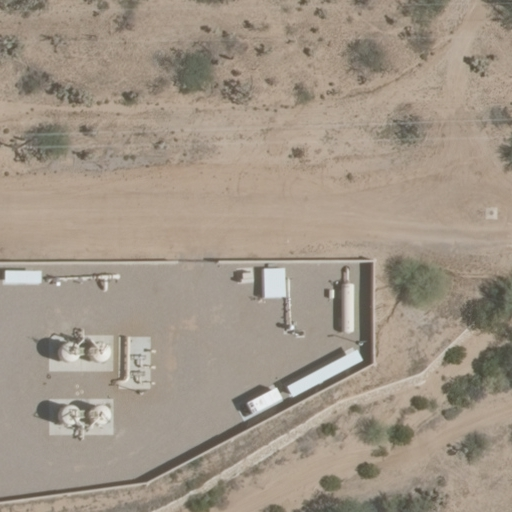DT: (7, 124, 42, 165)
